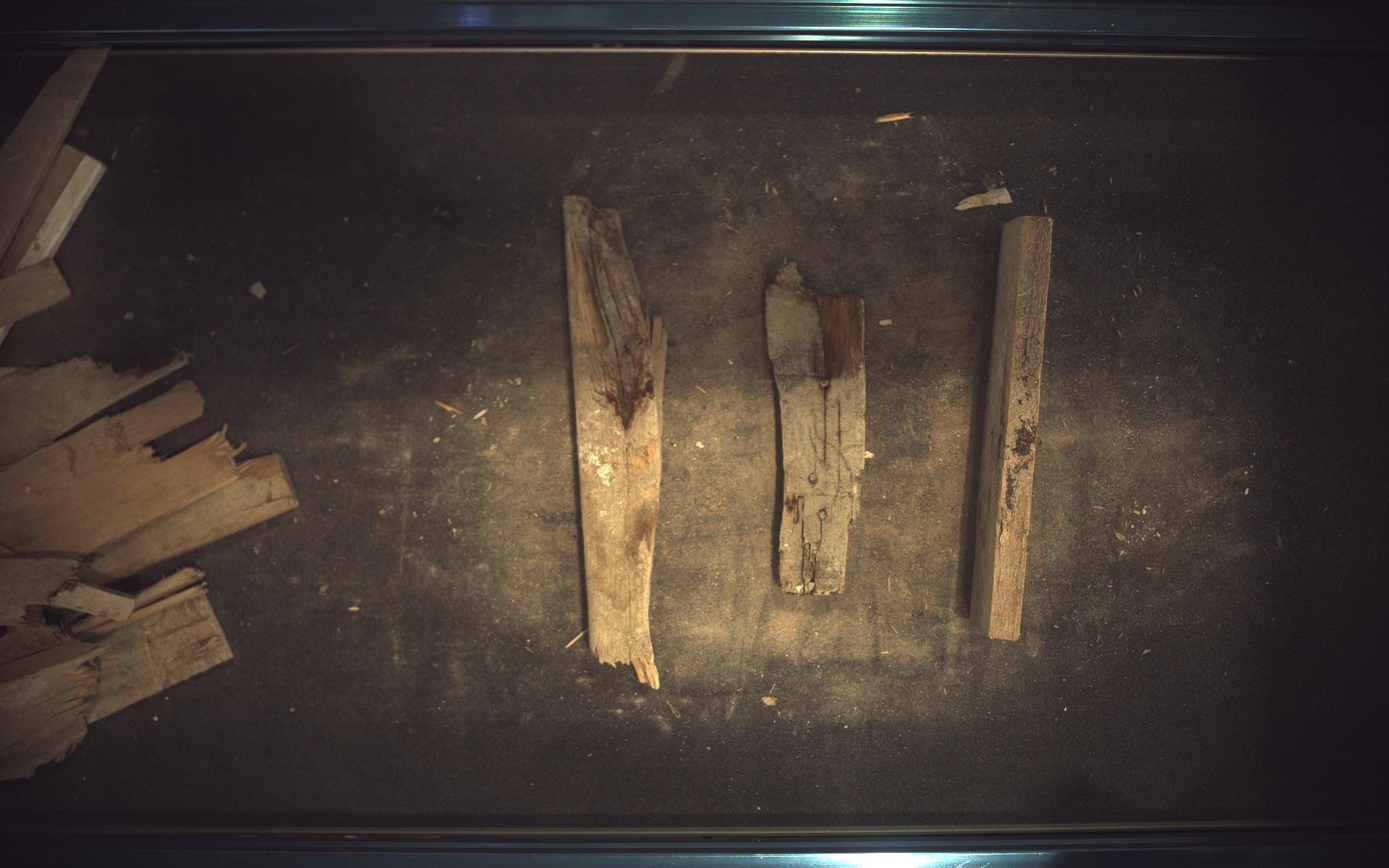wood: (564, 195, 668, 691), (972, 215, 1055, 641), (767, 262, 867, 595), (1, 430, 238, 555), (1, 380, 203, 517), (88, 454, 298, 582), (67, 568, 231, 724), (1, 46, 108, 258), (1, 353, 192, 467), (1, 639, 98, 782), (1, 144, 104, 276), (1, 558, 135, 626), (1, 258, 69, 328), (1, 625, 69, 666)
